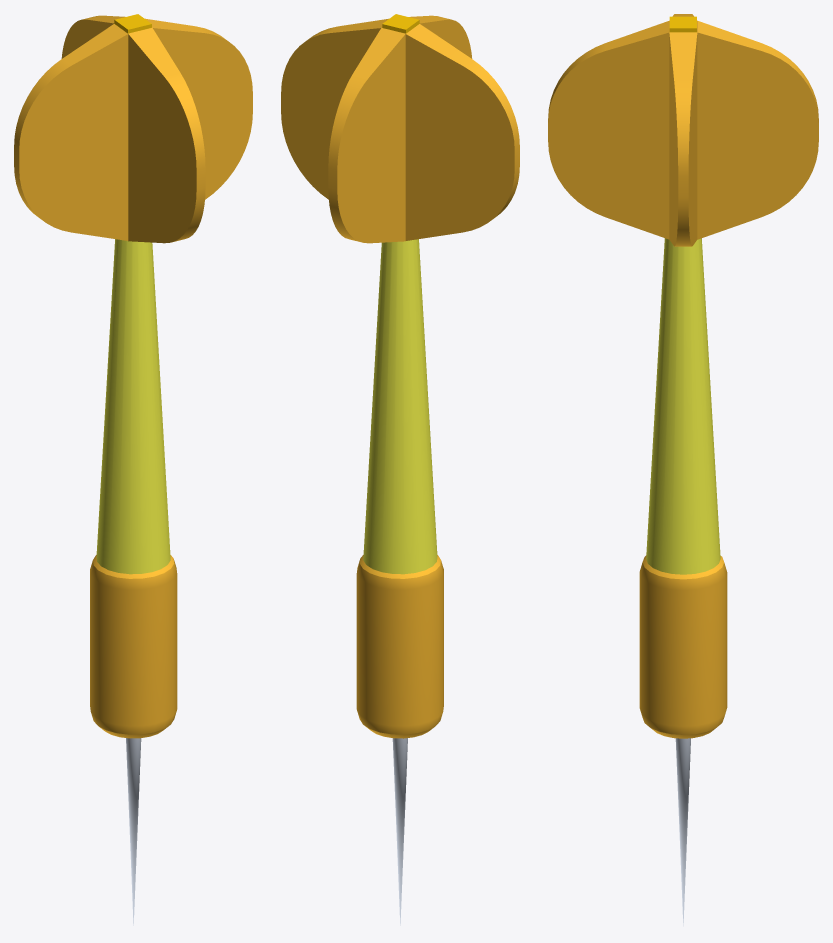
The model's file is Boardwalk_Darts.fbx.
The picture shows the model from 3 angles, left to right: view 1: azimuth 30°, elevation 25°; view 2: azimuth 150°, elevation 25°; view 3: azimuth 270°, elevation 25°; orthographic projection.
Visible parts, largest first — view 1: Dart_Top_02, Dart_Body, Dart_Grip, Dart_Top_04, Dart_Top_01, Dart_Needle, Dart_Top_03; view 2: Dart_Top_02, Dart_Body, Dart_Grip, Dart_Top_03, Dart_Top_01, Dart_Needle, Dart_Top_04; view 3: Dart_Top_03, Dart_Top_04, Dart_Body, Dart_Grip, Dart_Top_01, Dart_Needle.
Boxes of the visible parts, x1,y1,x2,y2 form: Dart_Top_02: (14, 24, 128, 240); Dart_Body: (96, 239, 170, 574); Dart_Grip: (90, 555, 177, 738); Dart_Top_04: (128, 27, 205, 243); Dart_Top_01: (145, 18, 252, 199); Dart_Needle: (126, 738, 141, 925); Dart_Top_03: (61, 15, 124, 58); Dart_Top_02: (405, 24, 519, 240); Dart_Body: (363, 239, 437, 574); Dart_Grip: (356, 555, 443, 738); Dart_Top_03: (328, 28, 405, 243); Dart_Top_01: (281, 18, 388, 199); Dart_Needle: (392, 738, 407, 925); Dart_Top_04: (409, 15, 472, 58); Dart_Top_03: (697, 20, 818, 239); Dart_Top_04: (548, 20, 669, 239); Dart_Body: (646, 238, 720, 574); Dart_Grip: (639, 555, 727, 738); Dart_Top_01: (669, 32, 697, 246); Dart_Needle: (675, 738, 690, 926).
Bounding box in the file's own units: 2.22 × 8.23 × 2.23.
